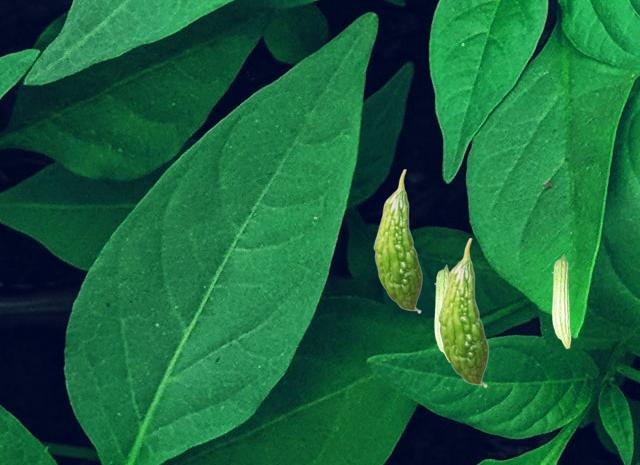ampalaya: (437, 237, 489, 388), (373, 168, 423, 314), (551, 254, 571, 349), (434, 264, 449, 362)
